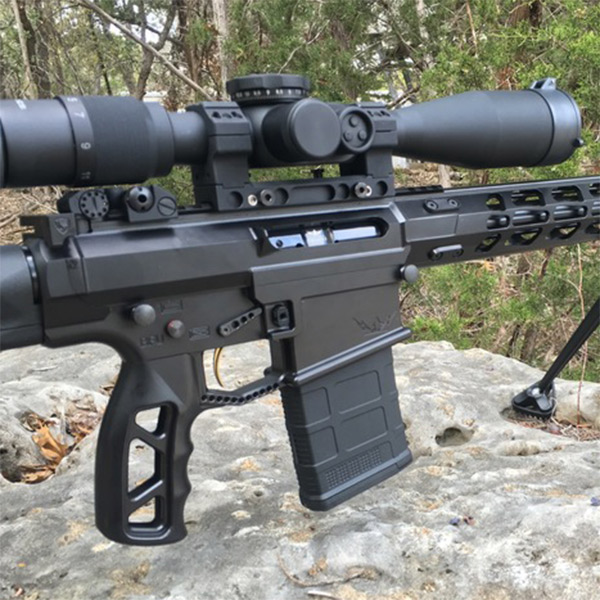Gun: (63, 80, 591, 453)
